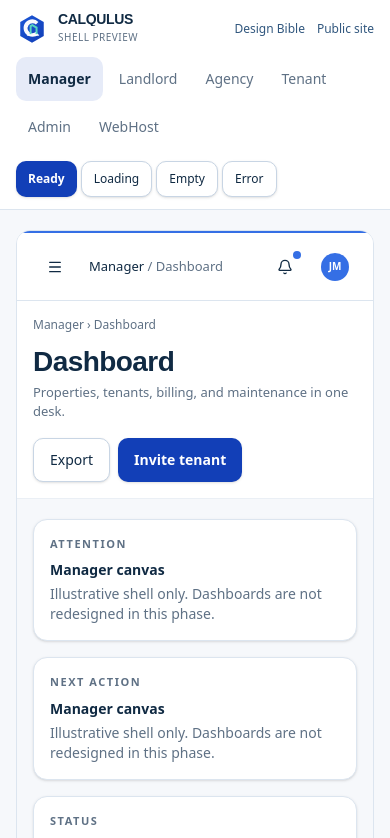
Test: Authenticated shell preview › exposes loading, empty, and error canvas states
The width and height of the screenshot is (390, 838).
Click the button "Loading" at point(116, 179), box [81,161,152,197]
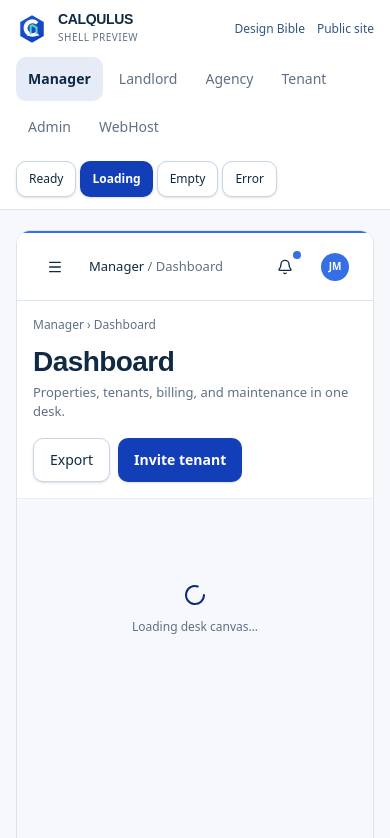
Now the text "Loading desk canvas…" is shown, box [132,619,258,635]
Click the button "Empty" at point(188, 179), box [157,161,218,197]
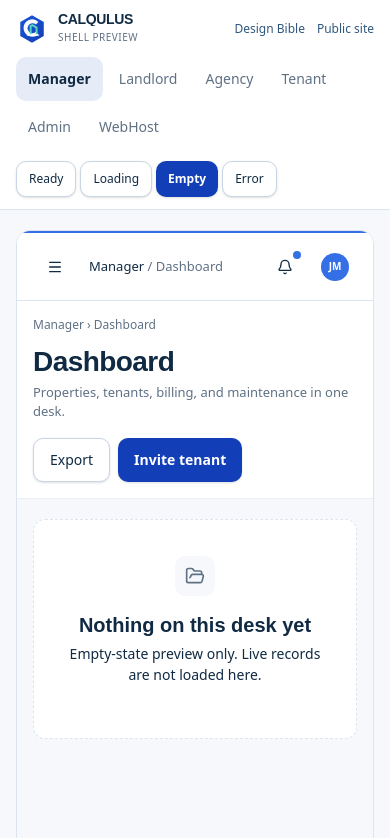
Now the heading "Nothing on this desk yet" is shown, box [79,612,311,639]
Click the button "Error" at point(250, 179), box [222,161,277,197]
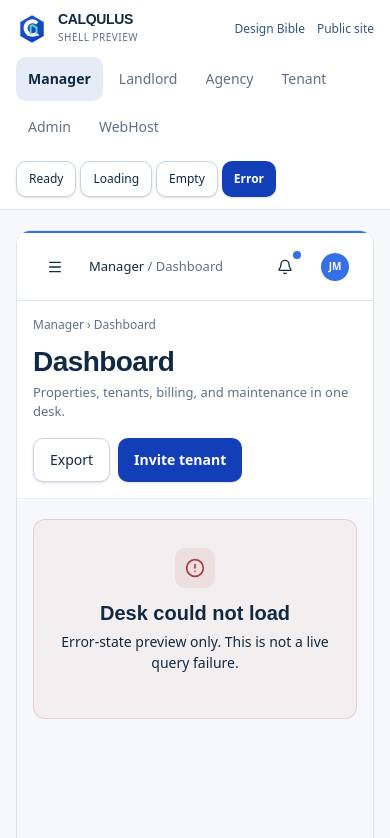
Now the heading "Desk could not load" is shown, box [100,600,290,627]
